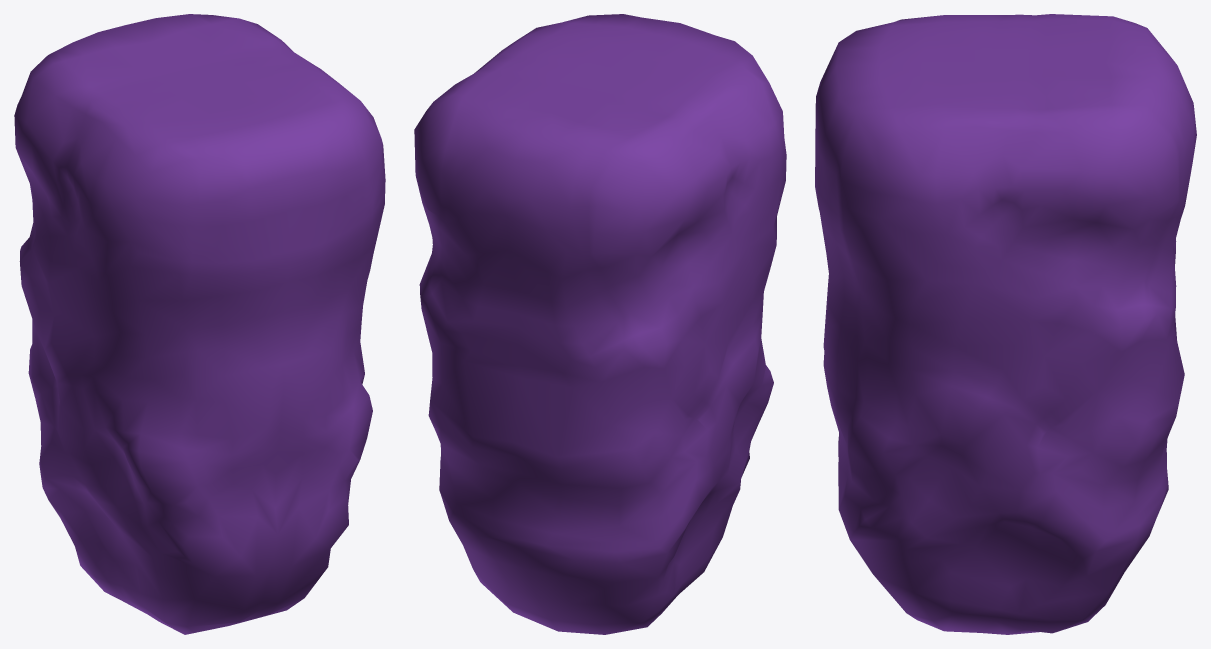
Rendered from low_part_upper.FBX.
The picture shows the model from 3 angles, left to right: view 1: azimuth 30°, elevation 25°; view 2: azimuth 150°, elevation 25°; view 3: azimuth 270°, elevation 25°; orthographic projection. The views are drawn at different scales.
Parts seen in each view (by area): view 1: low_part_upper; view 2: low_part_upper; view 3: low_part_upper.
Part boxes in pixels (left/top/right/bottom): low_part_upper: left=14, top=14, right=385, bottom=634; low_part_upper: left=414, top=14, right=786, bottom=634; low_part_upper: left=815, top=14, right=1196, bottom=634.
Size of the model in its own units: 2.81 by 5.03 by 3.16.
